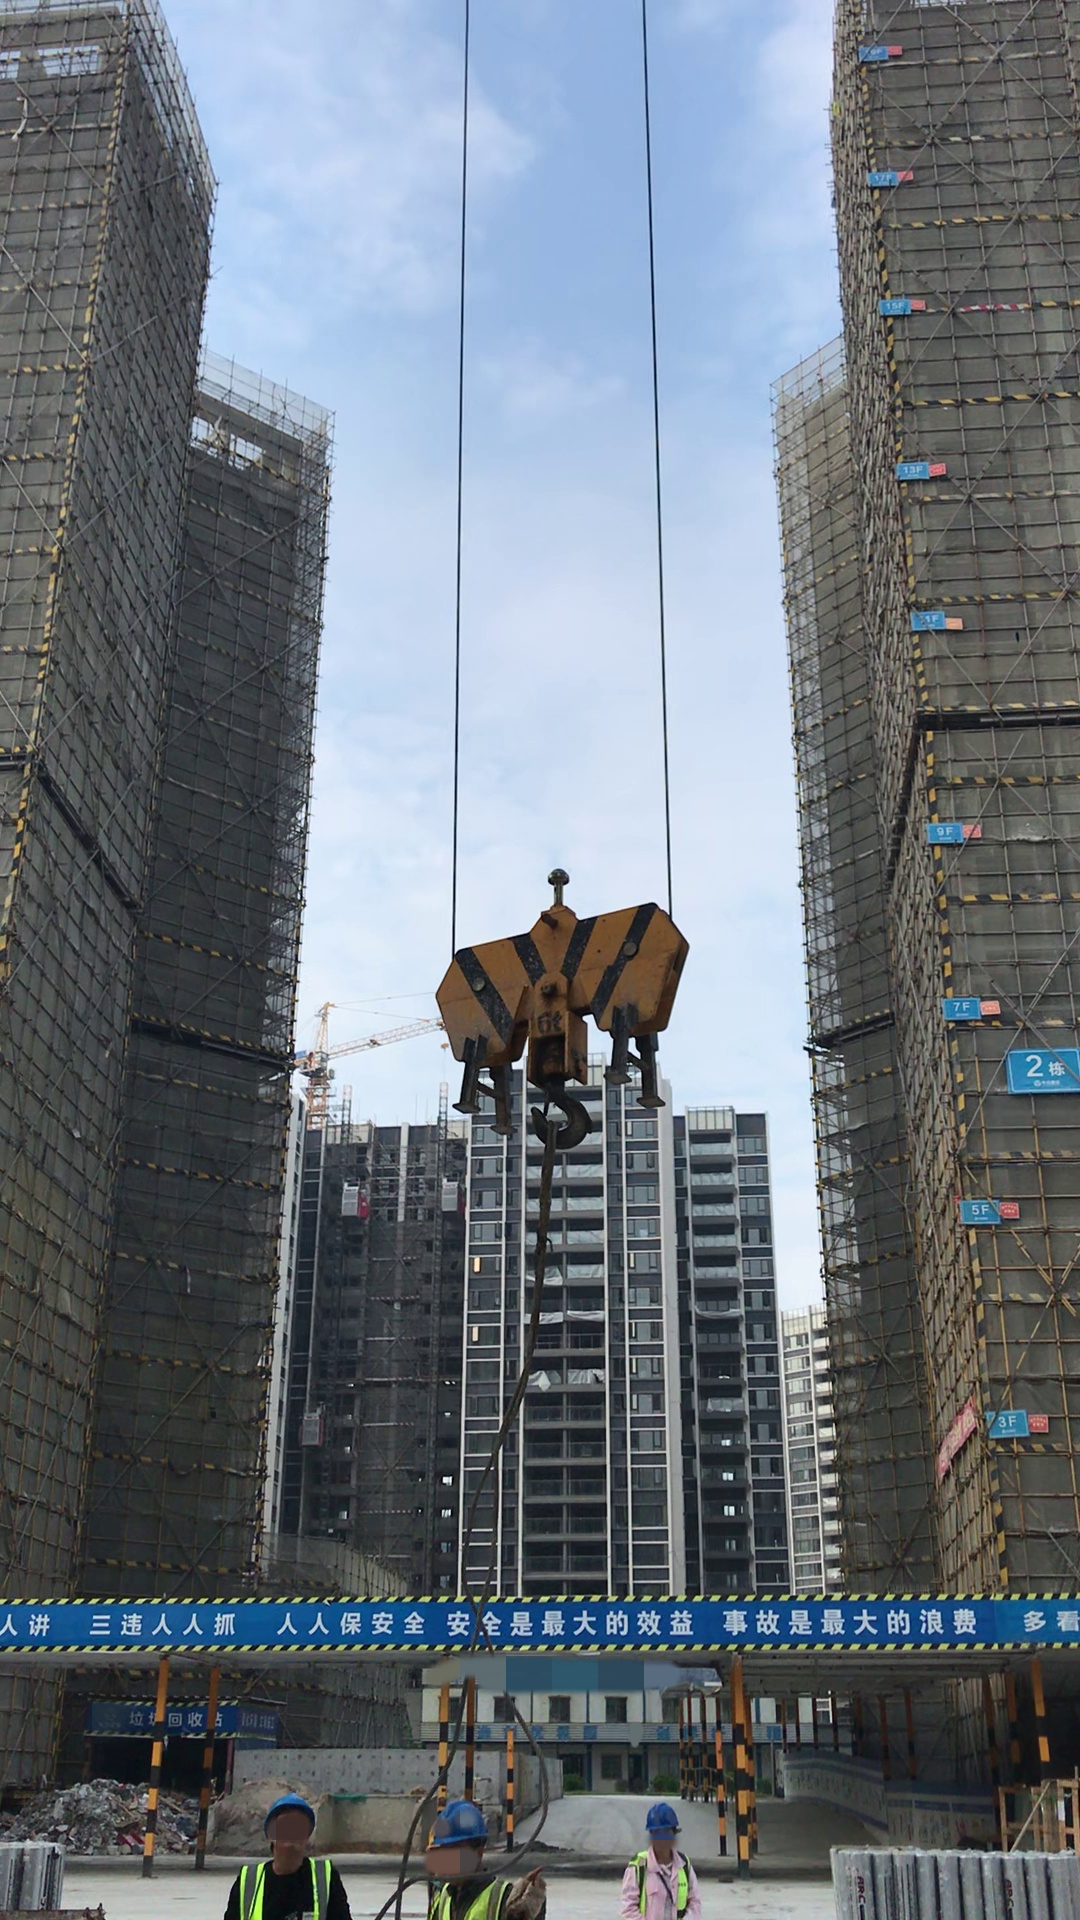helmet: (436, 1791, 496, 1851), (632, 1784, 698, 1838), (260, 1773, 325, 1818)
hook: (432, 862, 724, 1150)
person: (224, 1786, 350, 1920), (407, 1804, 517, 1920), (606, 1798, 695, 1920)
slogan: (10, 1595, 1080, 1639)
vest: (243, 1850, 334, 1920), (431, 1877, 505, 1920)
